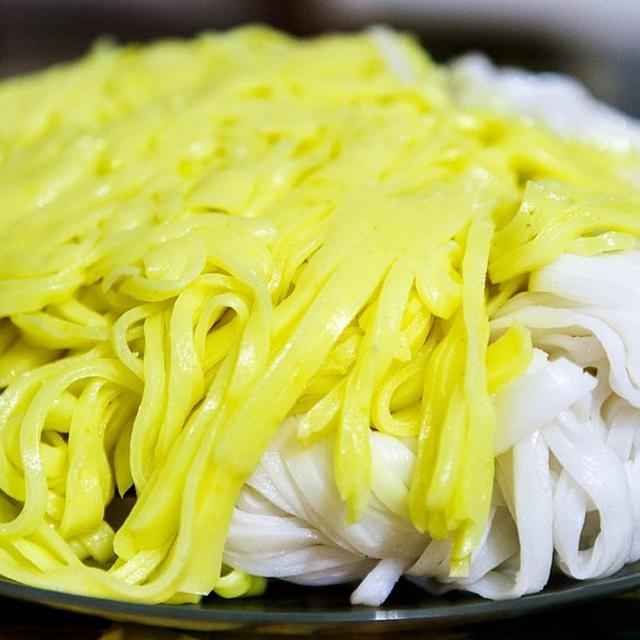noodles: (0, 71, 640, 544)
